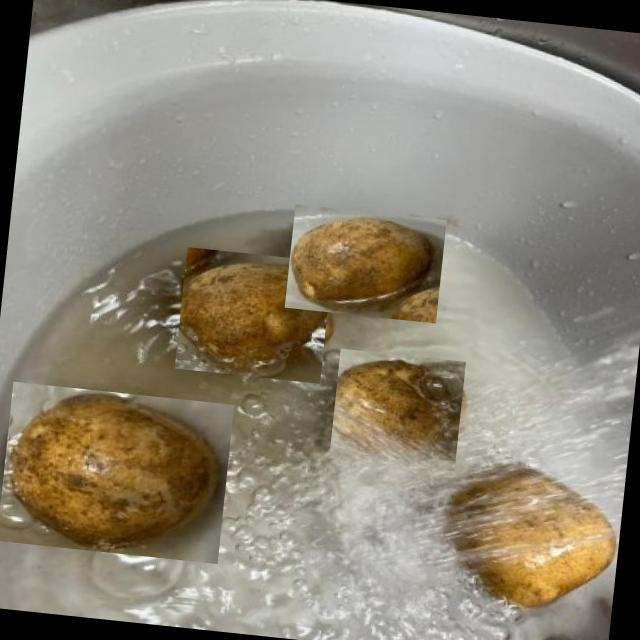Potato: (0, 380, 233, 562), (428, 453, 625, 617), (174, 245, 332, 382), (284, 203, 446, 322), (328, 347, 464, 470)
